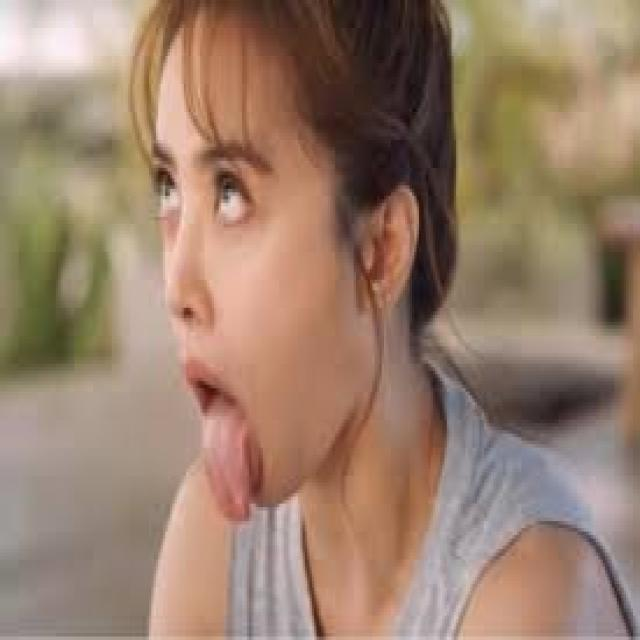tongue: (190, 398, 256, 532)
